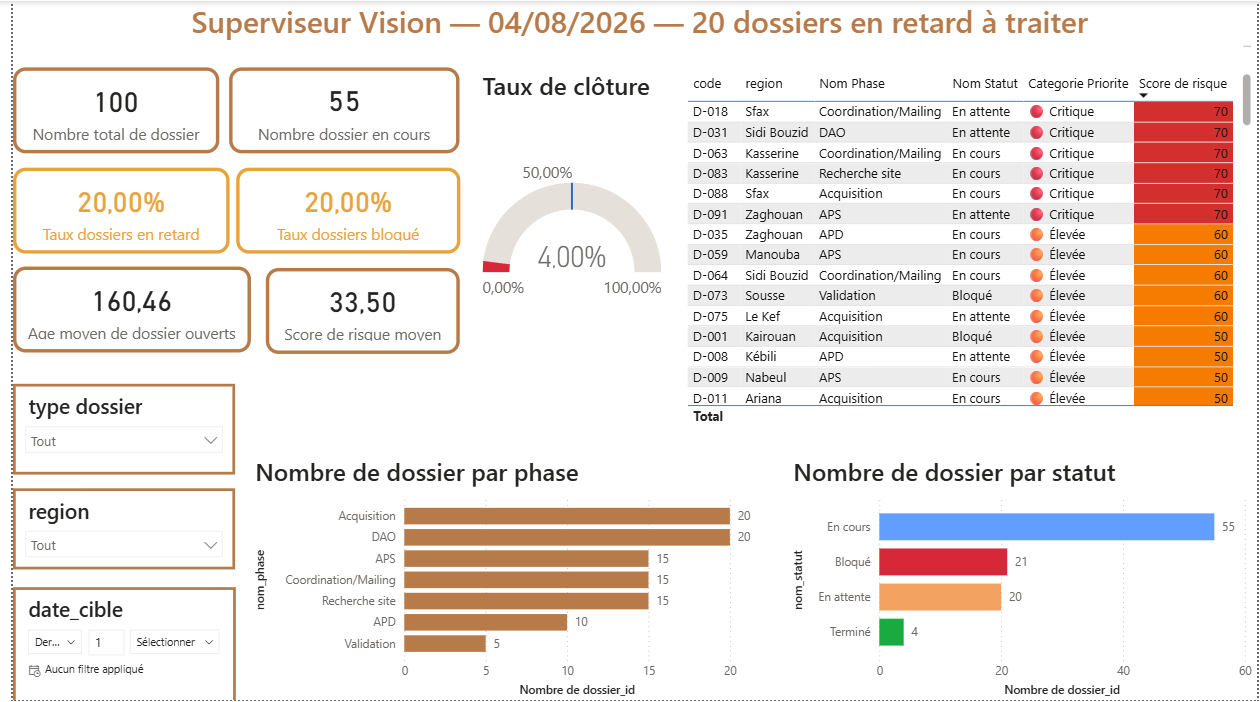

What the dashboard file says about the page in this screenshot:
{"tool":"powerbi","page":{"name":"Accueil superviseur","canvas":[1280,720],"ordinal":0},"visuals":[{"type":"textbox","box":[10.1,0,1269.6,52.4],"z":0},{"type":"card","fields":{"Values":["Count(Dossier.dossier_id)"]},"box":[0,68.3,212.3,88.7],"z":1000},{"type":"card","fields":{"Values":["Dossier.Taux dossiers en retard"]},"box":[0,172,223.1,88.3],"z":2000},{"type":"card","fields":{"Values":["Dossier.Age moyen de dossier ouverts"]},"box":[0,272.7,244.8,88.3],"z":3000},{"type":"clusteredBarChart","title":"Nombre de dossier par phase","fields":{"Y":["CountNonNull(Dossier.dossier_id)"],"Category":["Phase.nom_phase"]},"box":[244.8,466.3,526.8,254.1],"z":4000},{"type":"clusteredBarChart","title":"Nombre de dossier par statut","fields":{"Y":["CountNonNull(Dossier.dossier_id)"],"Category":["Statut.nom_statut"]},"box":[797.9,466.3,481.8,254.1],"z":5000},{"type":"card","fields":{"Values":["Dossier.Score de risque moyen"]},"box":[260.3,274.2,199.9,88.3],"z":6000},{"type":"card","fields":{"Values":["Dossier.Nombre dossier en cours"]},"box":[223.1,68.2,237,88.3],"z":7000},{"type":"card","fields":{"Values":["Dossier.Taux dossiers bloqué"]},"box":[229.3,172,230.8,88.3],"z":8000},{"type":"slicer","fields":{"Values":["Dossier.region"]},"box":[-0.3,501,228.8,83.8],"z":9000},{"type":"slicer","fields":{"Values":["Dossier.type_dossier"]},"box":[-0.3,394.6,228.8,93.4],"z":10000},{"type":"slicer","fields":{"Values":["Echeance.date_cible"]},"box":[-0.2,602.9,229.4,118.9],"z":11000},{"type":"tableEx","fields":{"Values":["Dossier.code_dossier","Dossier.region","Dossier.Nom Phase","Dossier.Nom Statut","Dossier.Categorie Priorite","Dossier.Score de risque"]},"box":[689.6,69.4,590.2,372.4],"z":12000},{"type":"gauge","title":"Taux de clôture","fields":{"Y":["Dossier.Taux dossiers termines"],"TargetValue":["Dossier.Objectif taux clôture"],"MaxValue":["Dossier.Maximum taux retard"]},"box":[478.1,69.4,194.1,293.5],"z":13000}]}

Visuals, with their boxes in screenshot pixels (x1, y1, x2, y2), scaled from the page's 1280x720 canvas onto the 1260x702 screenshot:
textbox: select_region(10, 0, 1259, 51)
card - Count(Dossier.dossier_id): select_region(0, 67, 209, 153)
card - Dossier.Taux dossiers en retard: select_region(0, 168, 220, 254)
card - Dossier.Age moyen de dossier ouverts: select_region(0, 266, 241, 352)
"Nombre de dossier par phase" clusteredBarChart: select_region(241, 455, 760, 701)
"Nombre de dossier par statut" clusteredBarChart: select_region(785, 455, 1259, 701)
card - Dossier.Score de risque moyen: select_region(256, 267, 453, 353)
card - Dossier.Nombre dossier en cours: select_region(220, 66, 453, 153)
card - Dossier.Taux dossiers bloqué: select_region(226, 168, 453, 254)
slicer - Dossier.region: select_region(0, 488, 225, 570)
slicer - Dossier.type_dossier: select_region(0, 385, 225, 476)
slicer - Echeance.date_cible: select_region(0, 588, 226, 701)
tableEx - Dossier.code_dossier x Dossier.region: select_region(679, 68, 1259, 431)
"Taux de clôture" gauge: select_region(471, 68, 662, 354)
